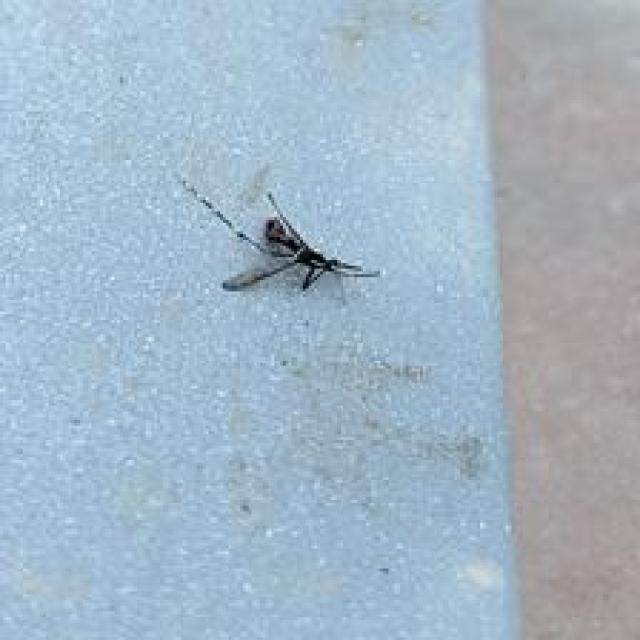Aedes albopictus: (178, 170, 382, 304)
